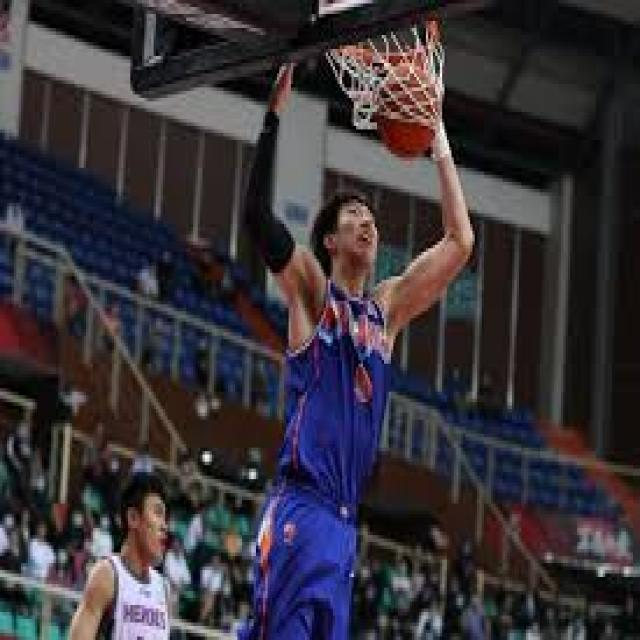rim: (374, 66, 436, 154)
